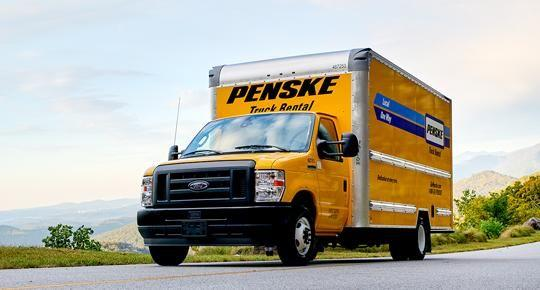truck: (136, 47, 454, 267)
